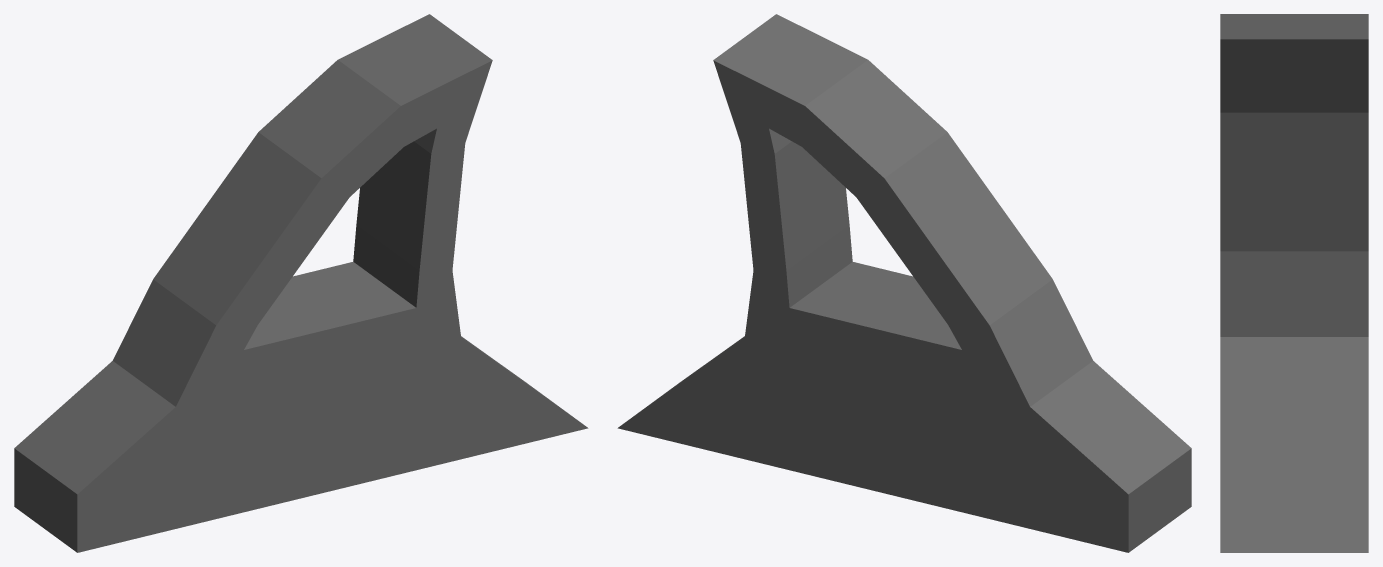
The model's file is Shotgun1_01_3.fbx.
The picture shows the model from 3 angles, left to right: view 1: azimuth 30°, elevation 25°; view 2: azimuth 150°, elevation 25°; view 3: azimuth 270°, elevation 25°; orthographic projection. The views are drawn at different scales.
Parts seen in each view (by area): view 1: Shotgun1_01_3; view 2: Shotgun1_01_3; view 3: Shotgun1_01_3.
Part boxes in pixels (x1,y1,x2,y2): Shotgun1_01_3: (14, 14, 588, 552); Shotgun1_01_3: (617, 14, 1191, 552); Shotgun1_01_3: (1220, 14, 1368, 552).
Size of the model in its own units: 0.0411 by 0.0301 by 0.00879.
